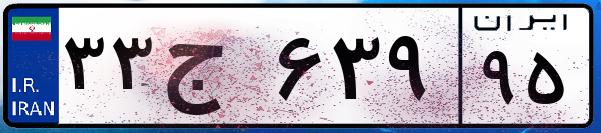3: (330, 28, 385, 110), (57, 26, 110, 100), (110, 28, 158, 98)
5: (525, 38, 570, 115)
6: (270, 28, 330, 110)
9: (385, 28, 445, 110), (475, 38, 525, 113)
ج: (158, 20, 270, 120)
